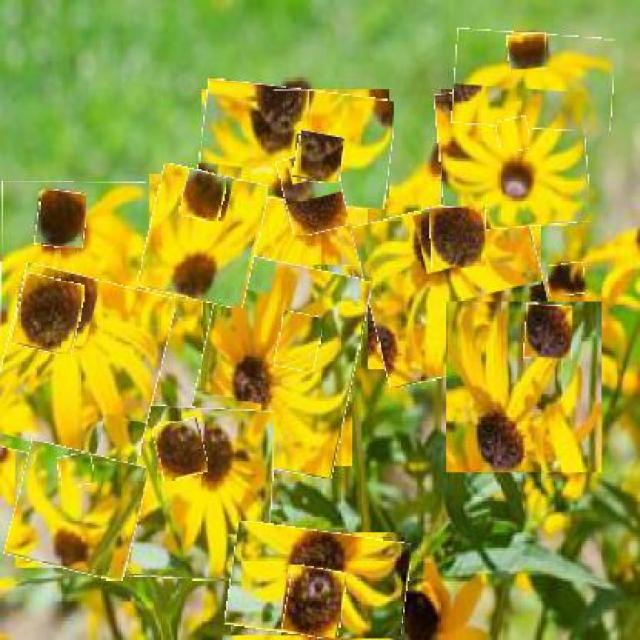Flower: (194, 258, 363, 475), (359, 195, 550, 380), (0, 271, 168, 472), (113, 405, 275, 581), (446, 301, 603, 474), (1, 181, 148, 341), (199, 84, 393, 205), (437, 86, 589, 231), (228, 526, 409, 639), (9, 447, 143, 576), (144, 169, 264, 305), (452, 31, 614, 131), (280, 151, 346, 235), (15, 276, 84, 353), (284, 567, 345, 639), (430, 207, 487, 270), (155, 419, 207, 479), (36, 191, 87, 249), (524, 304, 573, 359), (295, 131, 344, 184), (277, 312, 321, 371), (181, 172, 225, 223), (273, 89, 312, 131), (507, 33, 547, 70), (547, 262, 585, 296), (59, 454, 96, 488), (497, 117, 531, 152)
